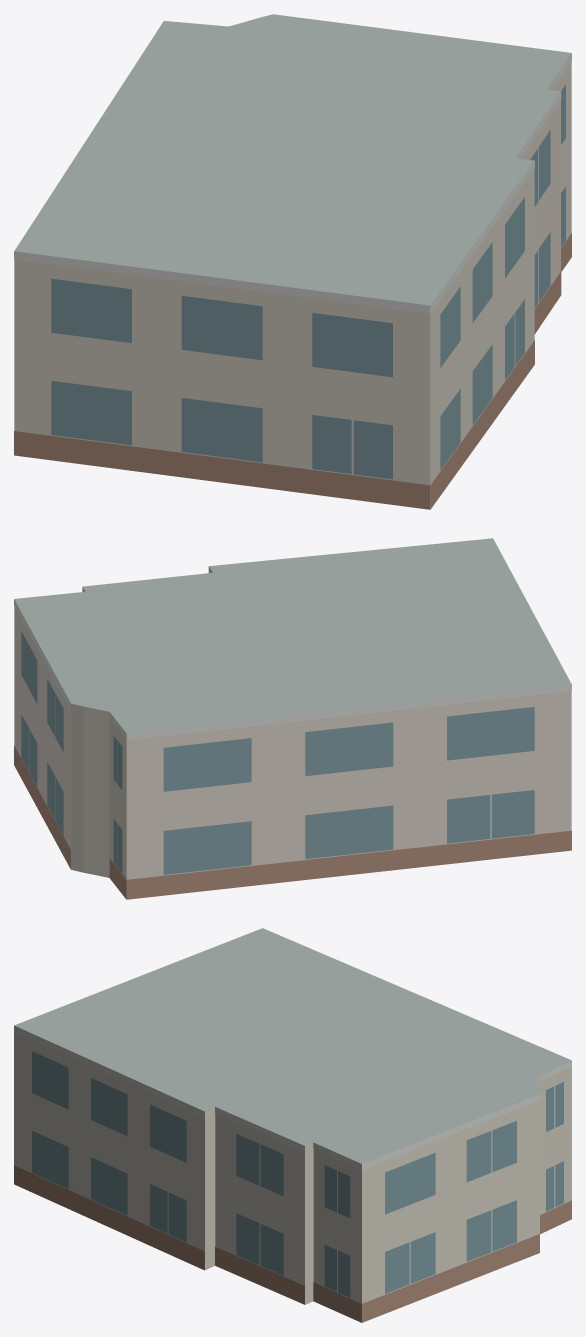
Rendered from survey-upis-32839792.glb.
3 renders of one model, top to bottom at view 1: azimuth 30°, elevation 25°; view 2: azimuth 150°, elevation 25°; view 3: azimuth 270°, elevation 25°, orthographic. The views are drawn at different scales.
Parts seen in each view (by area): view 1: survey-upis-32839792.tmp; view 2: survey-upis-32839792.tmp; view 3: survey-upis-32839792.tmp.
Part boxes in pixels (x1,y1,x2,y2): survey-upis-32839792.tmp: (14,14,571,509); survey-upis-32839792.tmp: (14,538,571,899); survey-upis-32839792.tmp: (14,928,571,1322).
Bounding box in the file's own units: 19.44 × 6.1 × 19.42.
